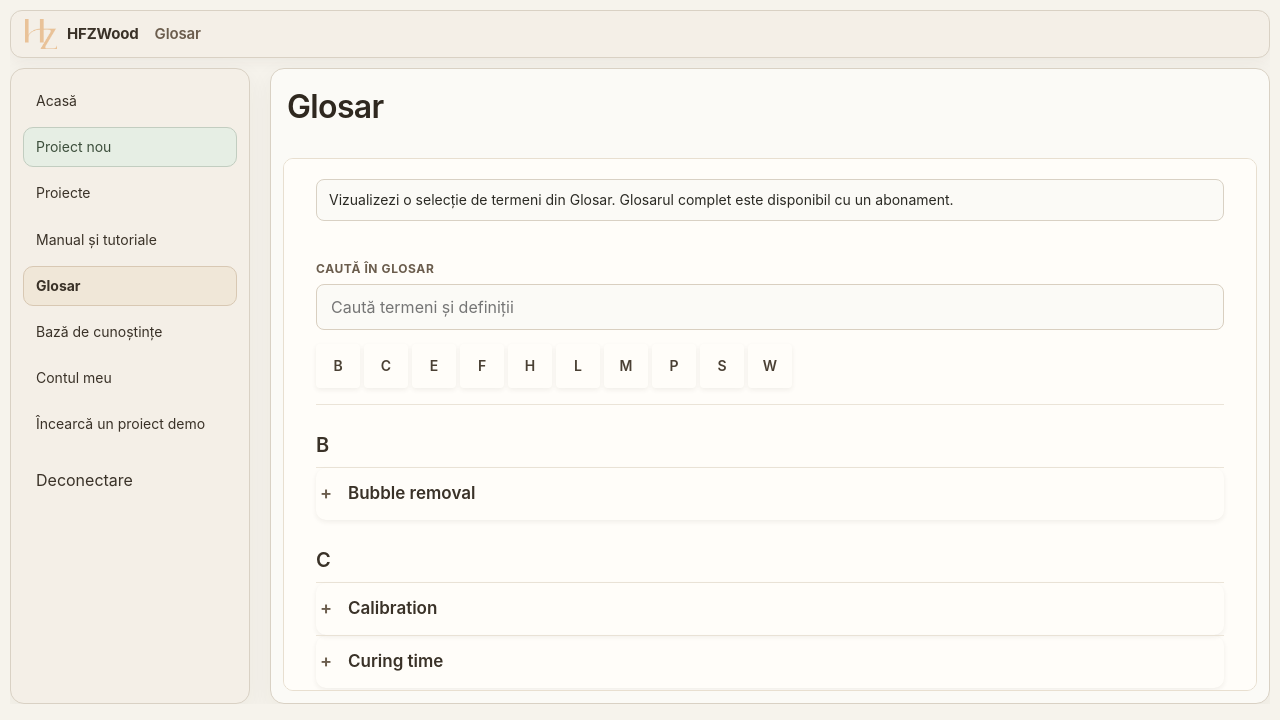
Glossary public UI localization › renders Romanian Glossary search and empty-state strings
Type "zzzz-no-match" into the search field labelled "Caută în glosar".
click(770, 307); type("zzzz-no-match")  # box [316,284,1224,330]
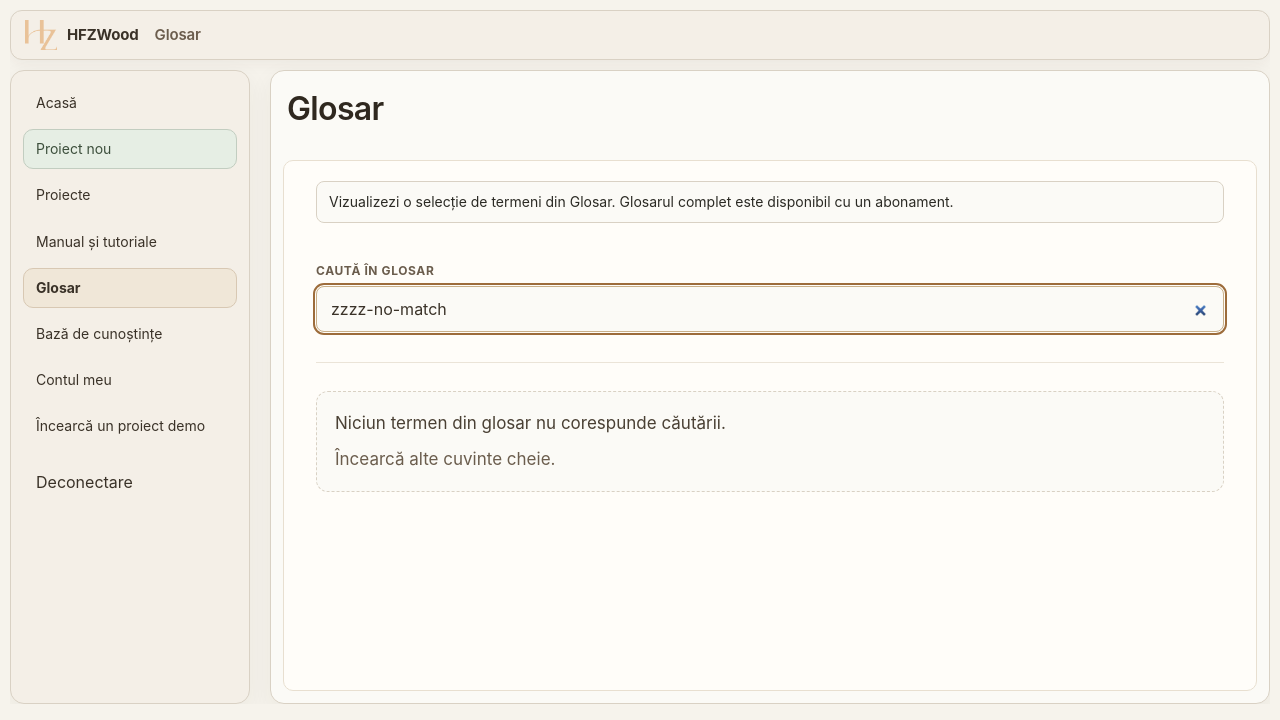
Result: the text "Niciun termen din glosar nu corespunde căutării." is shown at [335,414,726,434]
Result: the text "Încearcă alte cuvinte cheie." is shown at [335,449,555,469]
